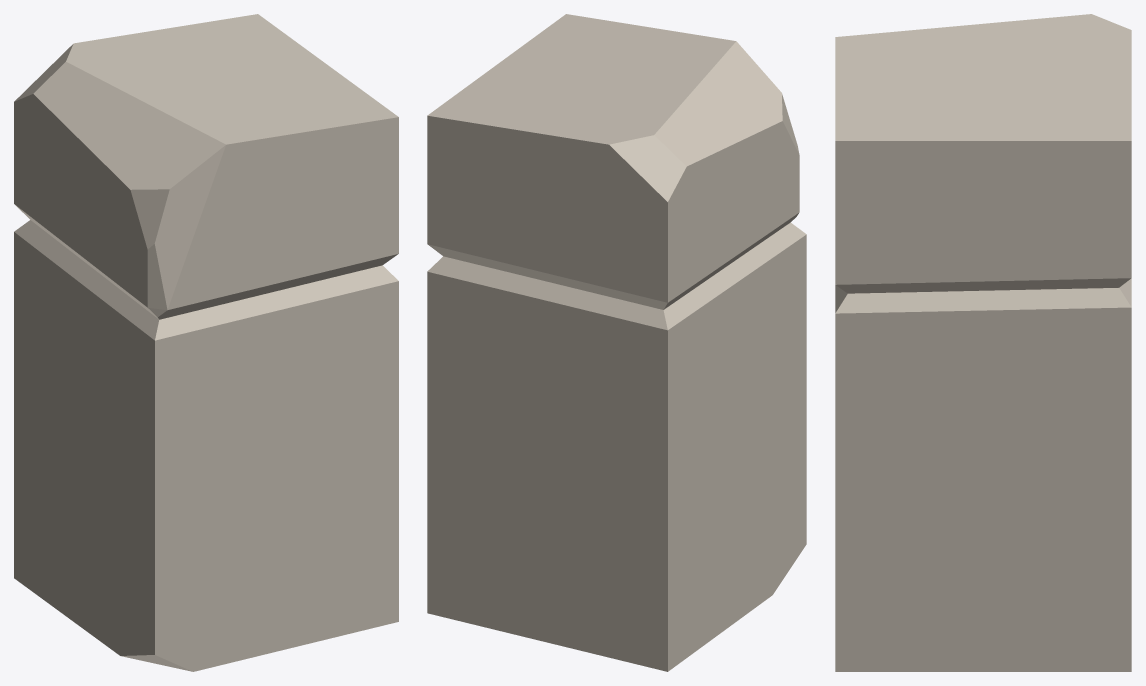
File: Rock_Square_m_19.fbx
3 renders of one model, left to right at view 1: azimuth 30°, elevation 25°; view 2: azimuth 150°, elevation 25°; view 3: azimuth 270°, elevation 25°, orthographic. The views are drawn at different scales.
Visible parts, largest first — view 1: Rock_Square_m_19; view 2: Rock_Square_m_19; view 3: Rock_Square_m_19.
Boxes of the visible parts, box(x1,y1,x2,y2) form: Rock_Square_m_19: box(14, 14, 398, 671); Rock_Square_m_19: box(427, 14, 806, 671); Rock_Square_m_19: box(835, 14, 1131, 671).
Size of the model in its own units: 43.2 by 88.39 by 43.2.
